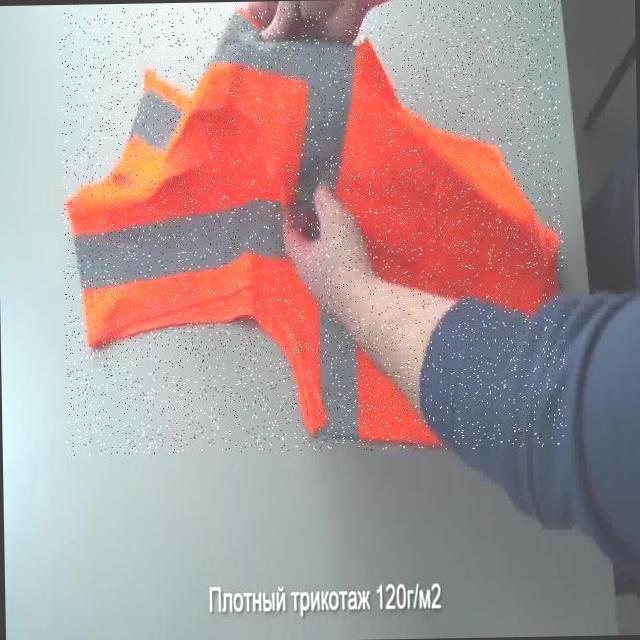vest: (58, 0, 567, 455)
